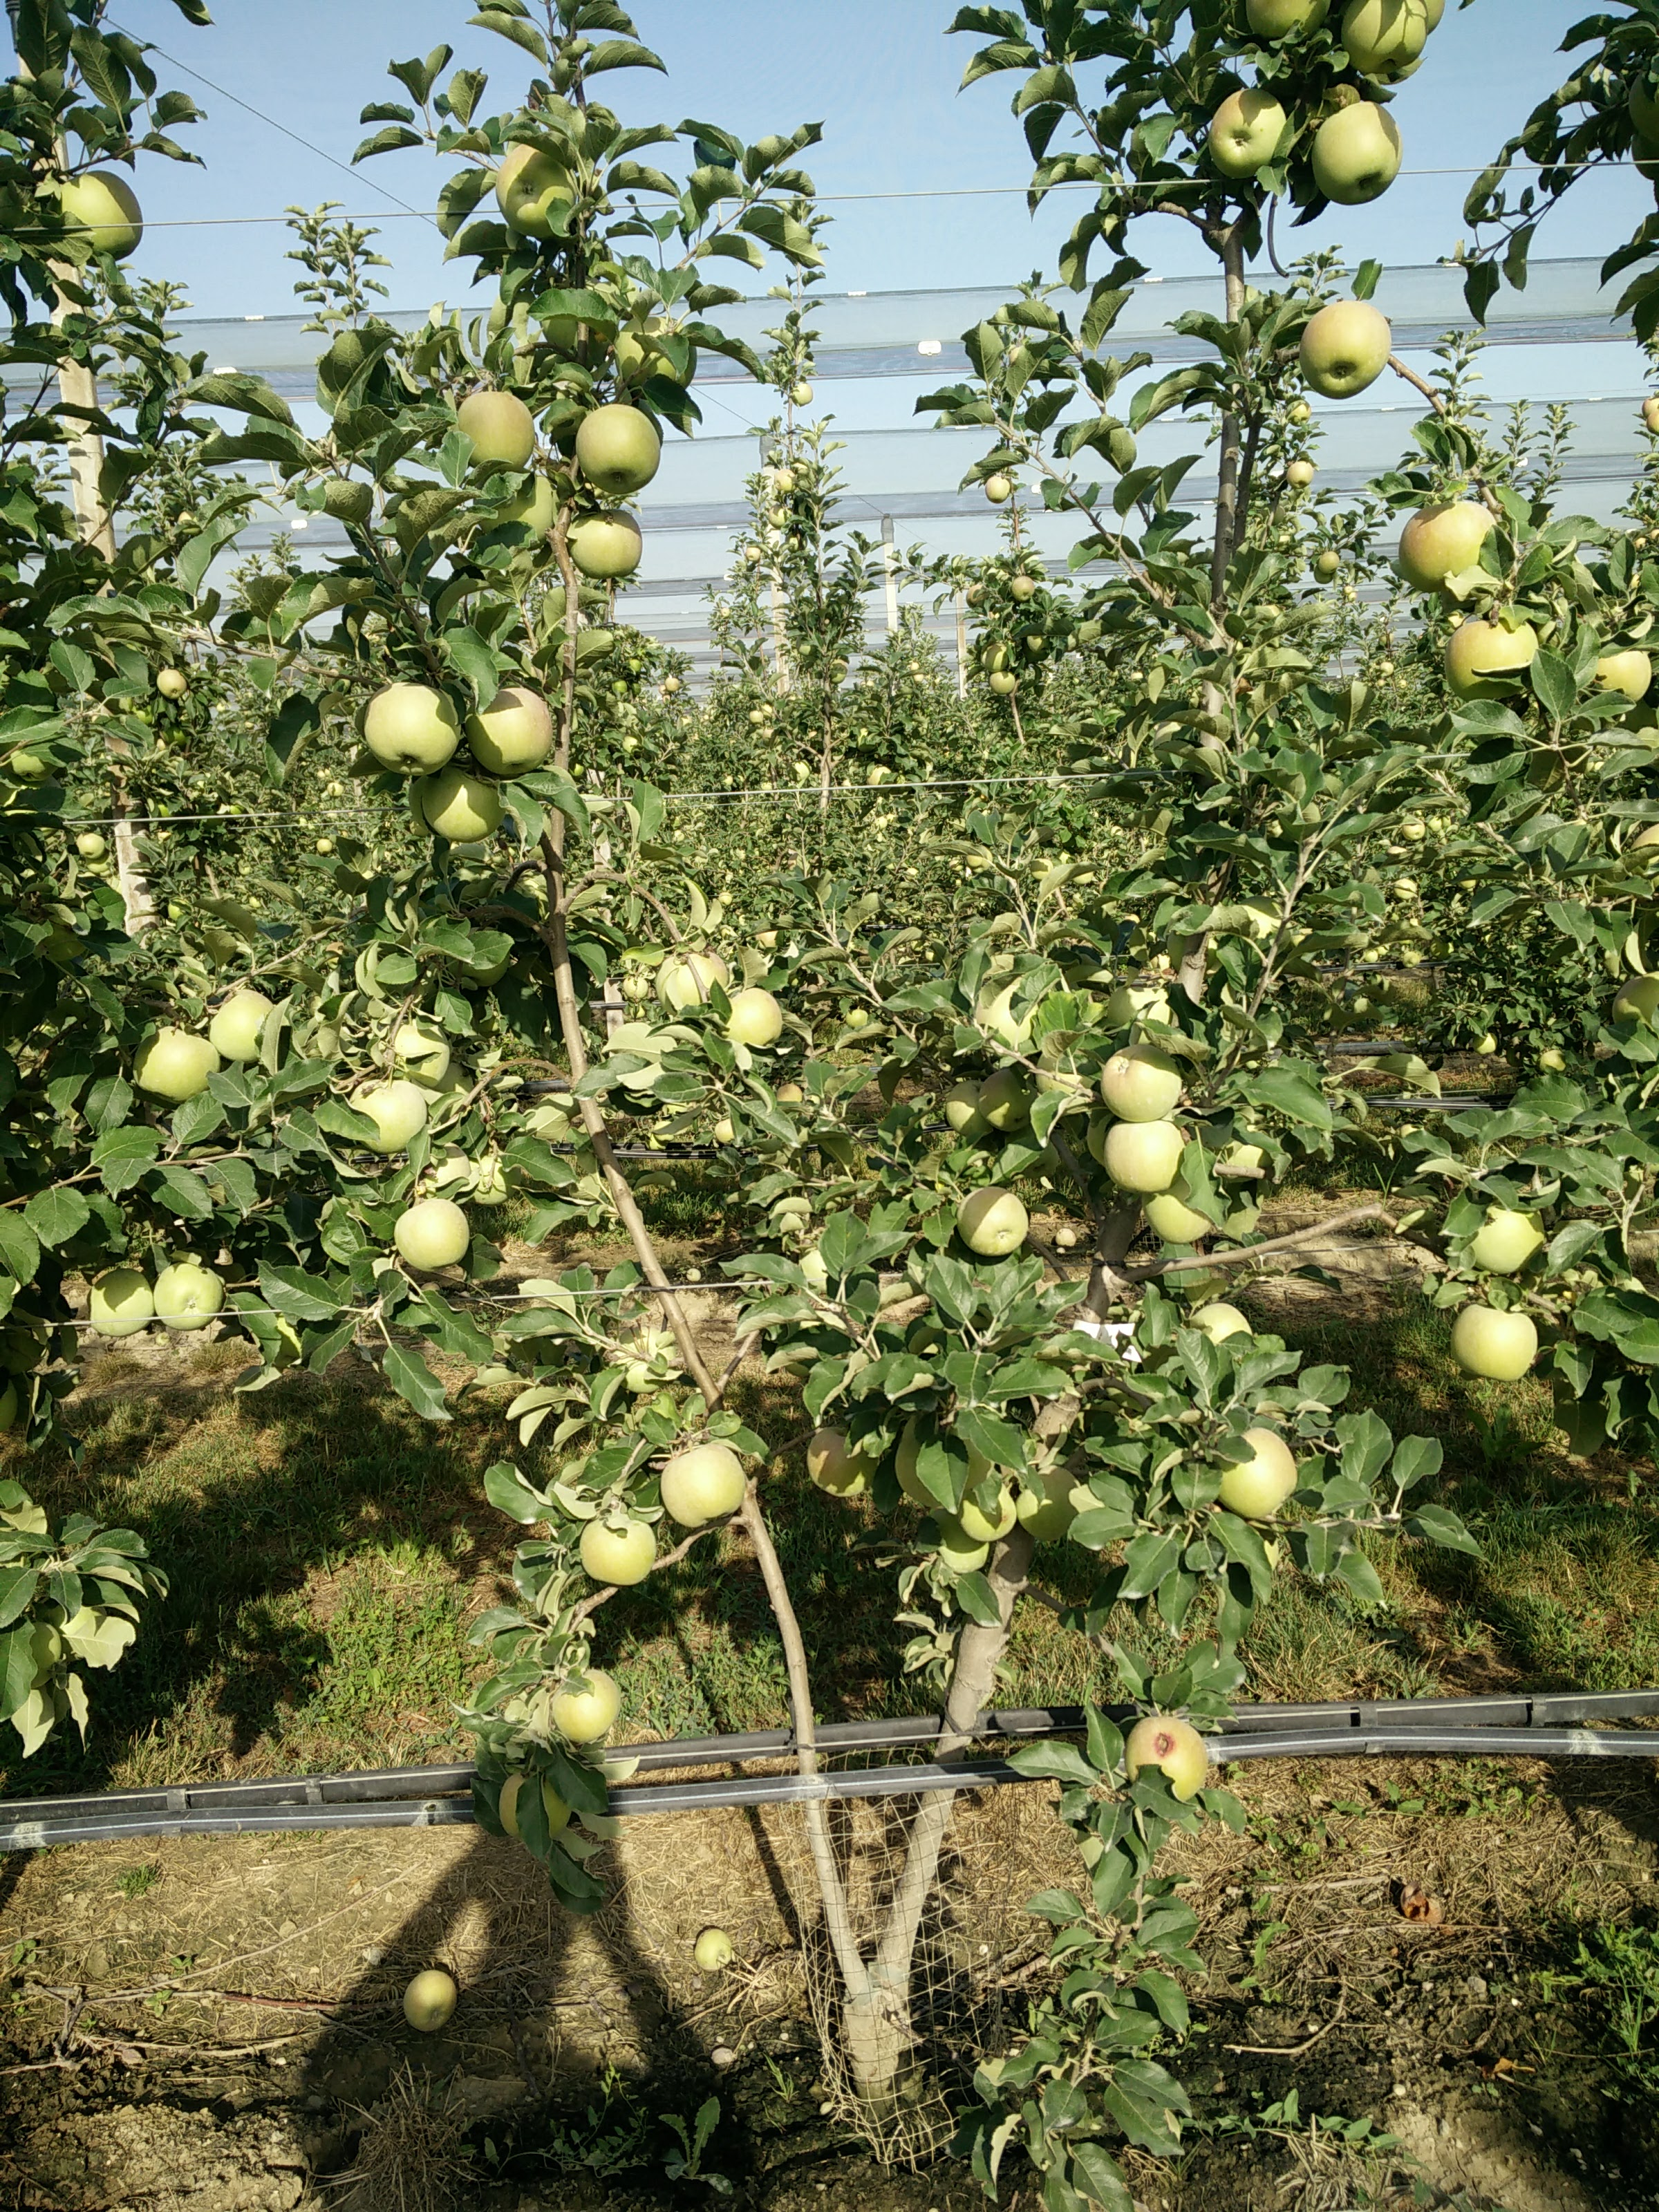apple: (1198, 1420, 1302, 1530), (1309, 97, 1409, 200), (1300, 288, 1390, 398), (114, 1011, 216, 1107), (361, 676, 465, 770), (655, 1437, 754, 1534), (1399, 498, 1500, 594), (414, 756, 518, 850), (465, 668, 561, 768), (570, 400, 668, 493), (493, 140, 590, 235), (46, 167, 146, 260), (340, 1061, 435, 1154), (1447, 1293, 1543, 1388), (1441, 615, 1536, 706), (385, 1192, 473, 1289), (1097, 1112, 1197, 1198), (1203, 86, 1293, 178), (573, 1508, 667, 1595), (1089, 1038, 1192, 1116), (941, 1185, 1044, 1262), (444, 388, 534, 471), (1577, 620, 1653, 716), (544, 1664, 630, 1750), (205, 986, 288, 1067), (143, 1254, 226, 1334), (562, 506, 648, 581), (80, 1268, 167, 1340), (1142, 1168, 1219, 1248), (711, 984, 787, 1054)
